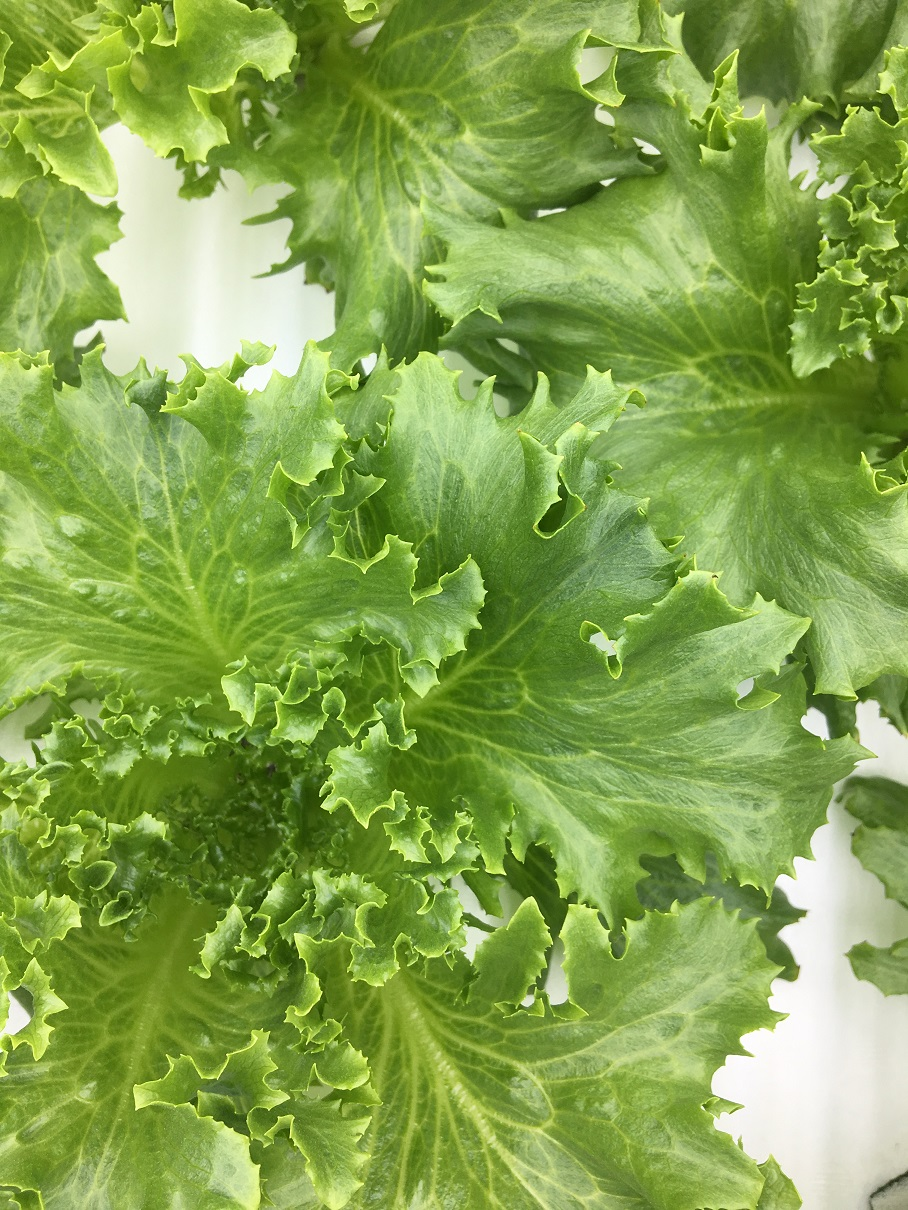tipburn: (705, 559, 730, 587), (263, 758, 283, 782), (230, 768, 249, 786), (297, 275, 314, 292), (239, 737, 257, 753), (321, 283, 334, 299)
